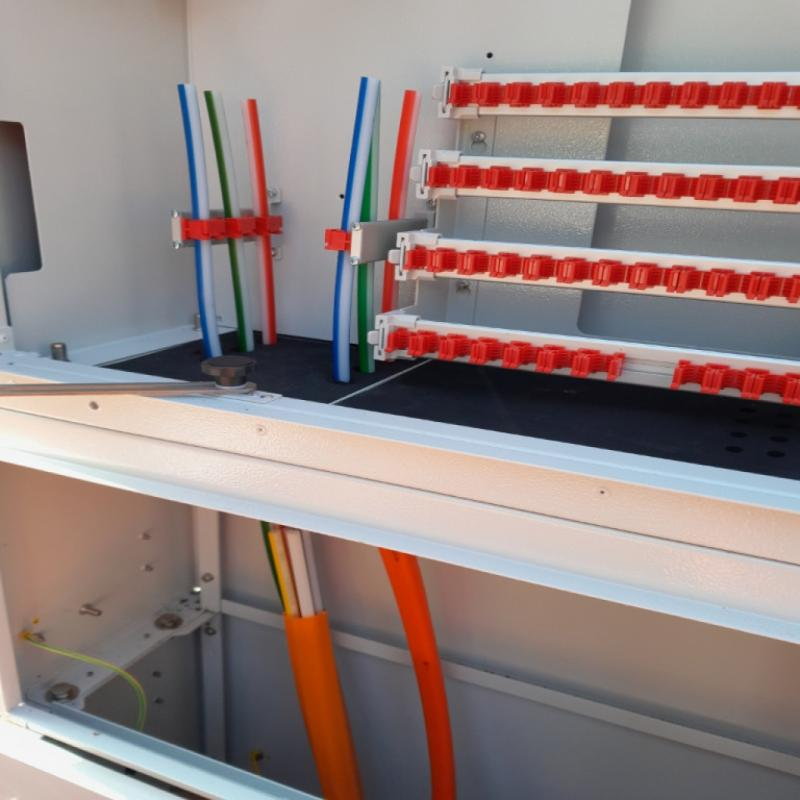NT-Gehause: (2, 2, 799, 796)
